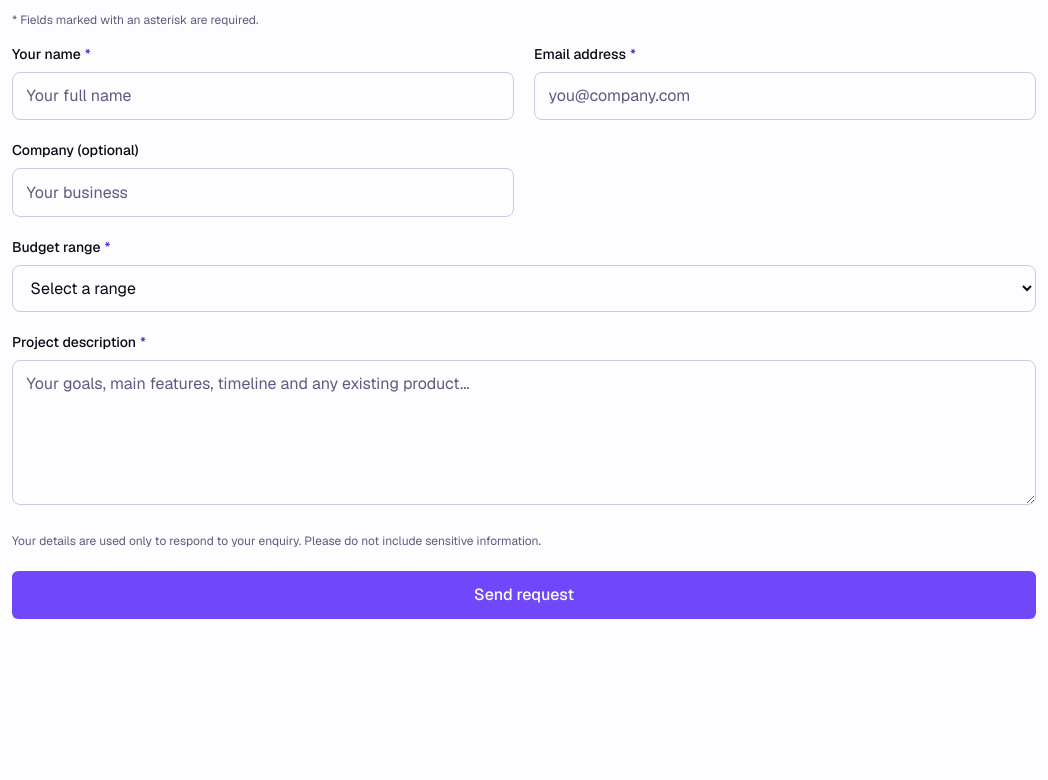
Scenario: ProjectForm › reports success only after server confirmation
The width and height of the screenshot is (1048, 780).
Type "Example Visitor" into the field labelled "Your name*".
click(263, 96); type("Example Visitor")  # box [12,72,514,120]
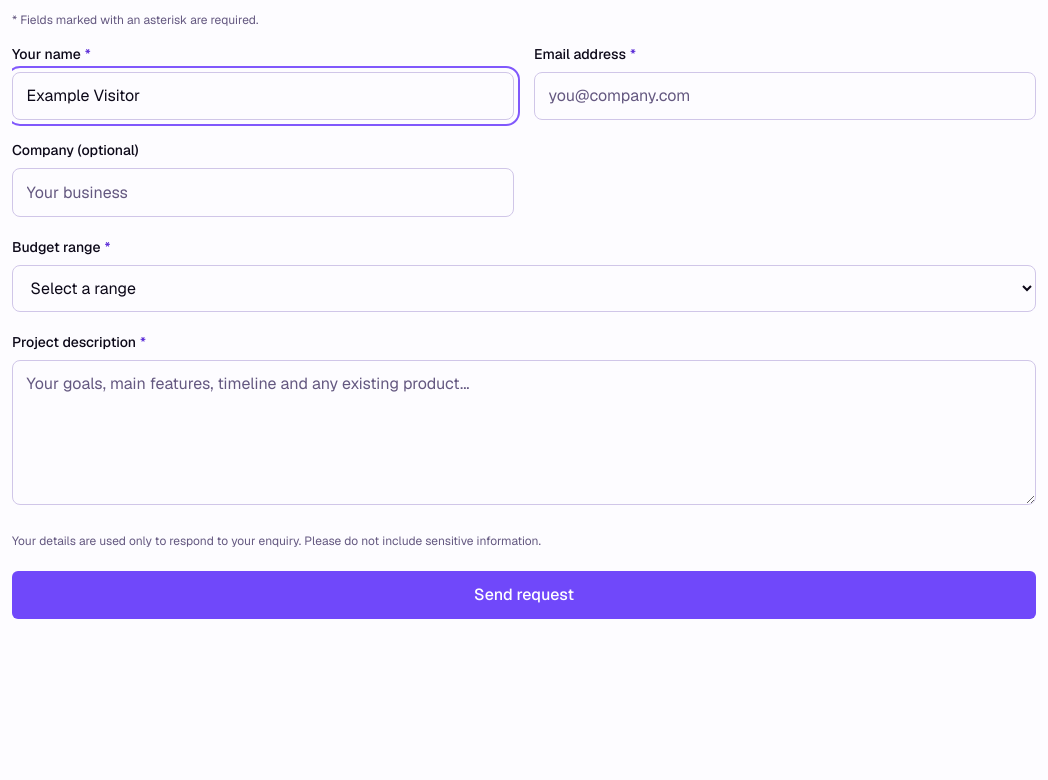
Type "visitor@example.com" into the field labelled "Email address*".
click(785, 96); type("visitor@example.com")  # box [534,72,1036,120]
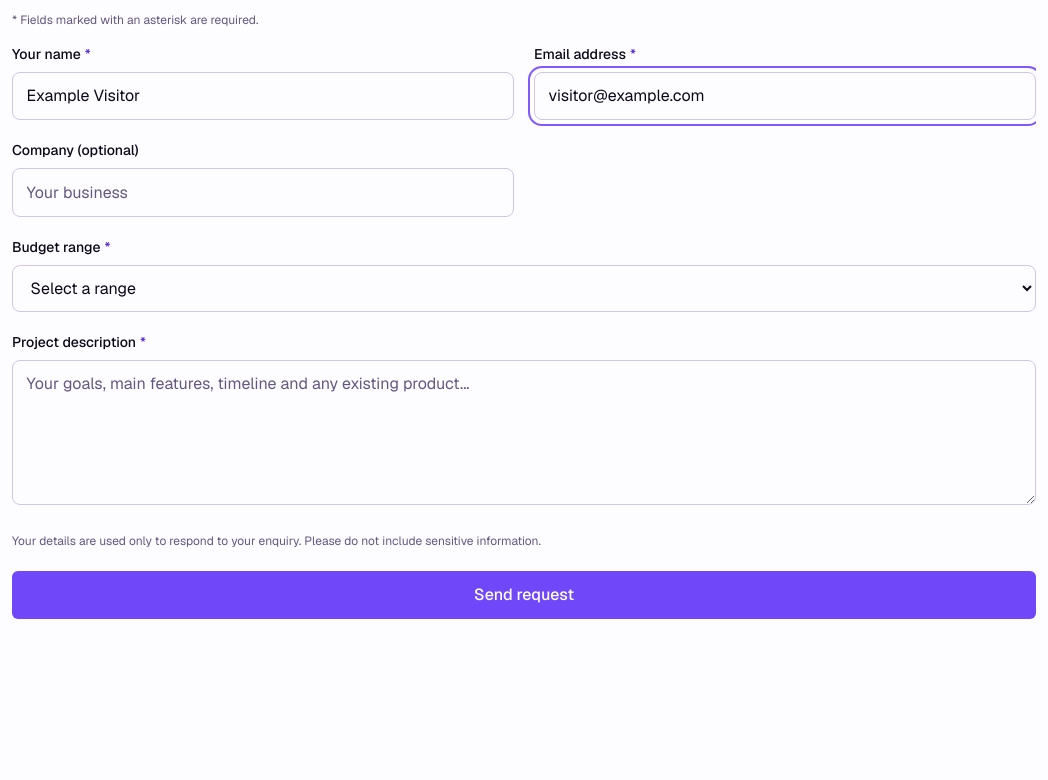
Select "Let’s define it together" in the dropdown labelled "Budget range*" at (524, 288), box [12,265,1036,312]
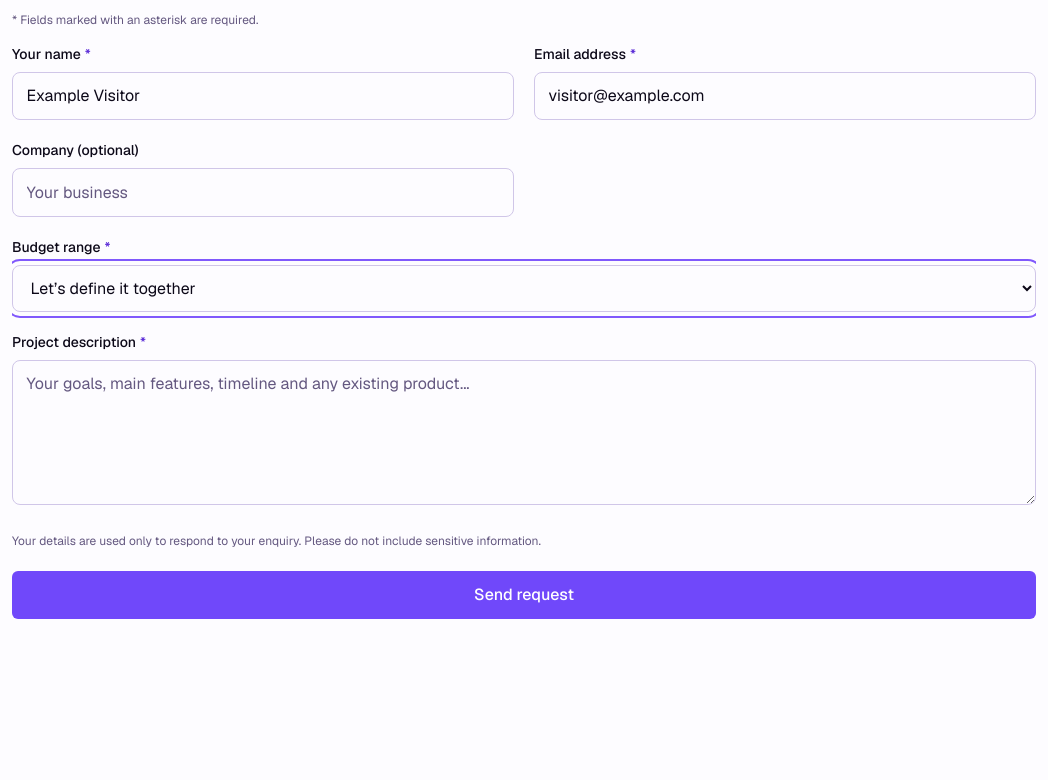
Type "A useful internal business application." into the text box labelled "Project description*".
click(524, 432); type("A useful internal business application.")  # box [12,360,1036,504]
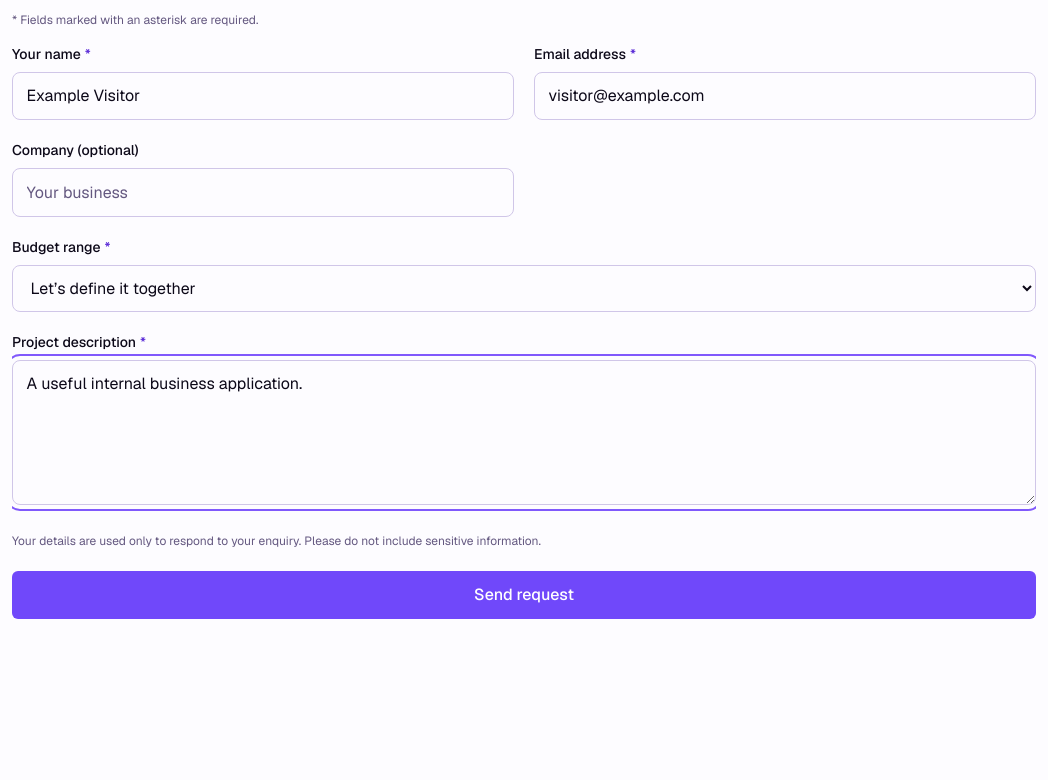
Click the button "Send request".
click(524, 595)  # box [12,571,1036,619]
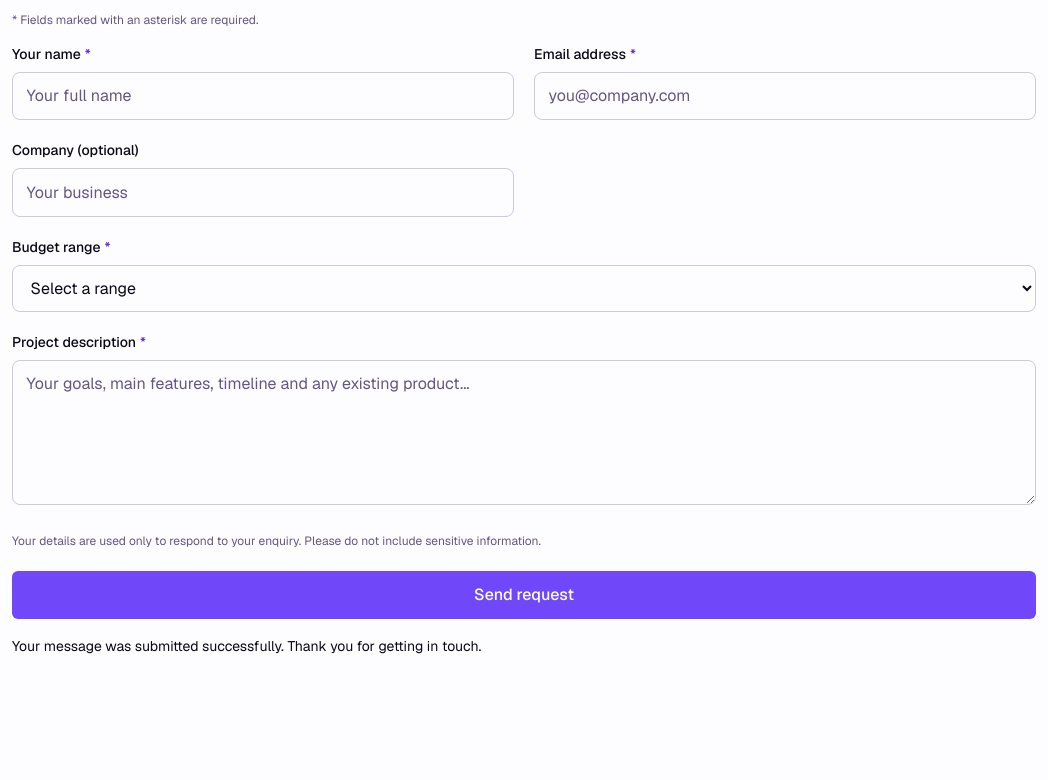
expect the text "submitted successfully" is shown: met, box [12,637,481,655]
expect the field labelled "Your name*" is empty: met, box [12,72,514,120]
